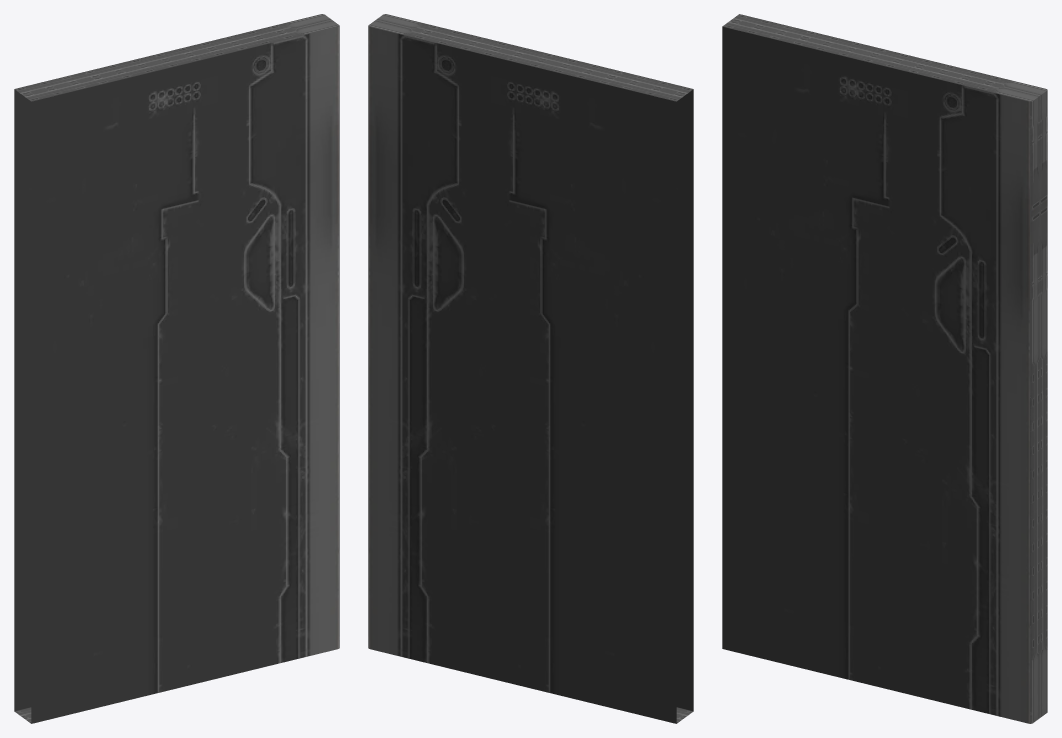
File: Door_DarkMetal.glb
3 renders of one model, left to right at view 1: azimuth 30°, elevation 25°; view 2: azimuth 150°, elevation 25°; view 3: azimuth 330°, elevation 25°, orthographic.
Visible parts, largest first — view 1: Door_DarkMetal; view 2: Door_DarkMetal; view 3: Door_DarkMetal.
Boxes of the visible parts, box(x1,y1,x2,y2) form: Door_DarkMetal: box(14, 14, 339, 723); Door_DarkMetal: box(368, 14, 693, 723); Door_DarkMetal: box(722, 14, 1047, 723).
Size of the model in its own units: 2.11 by 4.05 by 0.2031.
Materials: 1 (1 with a texture image).
